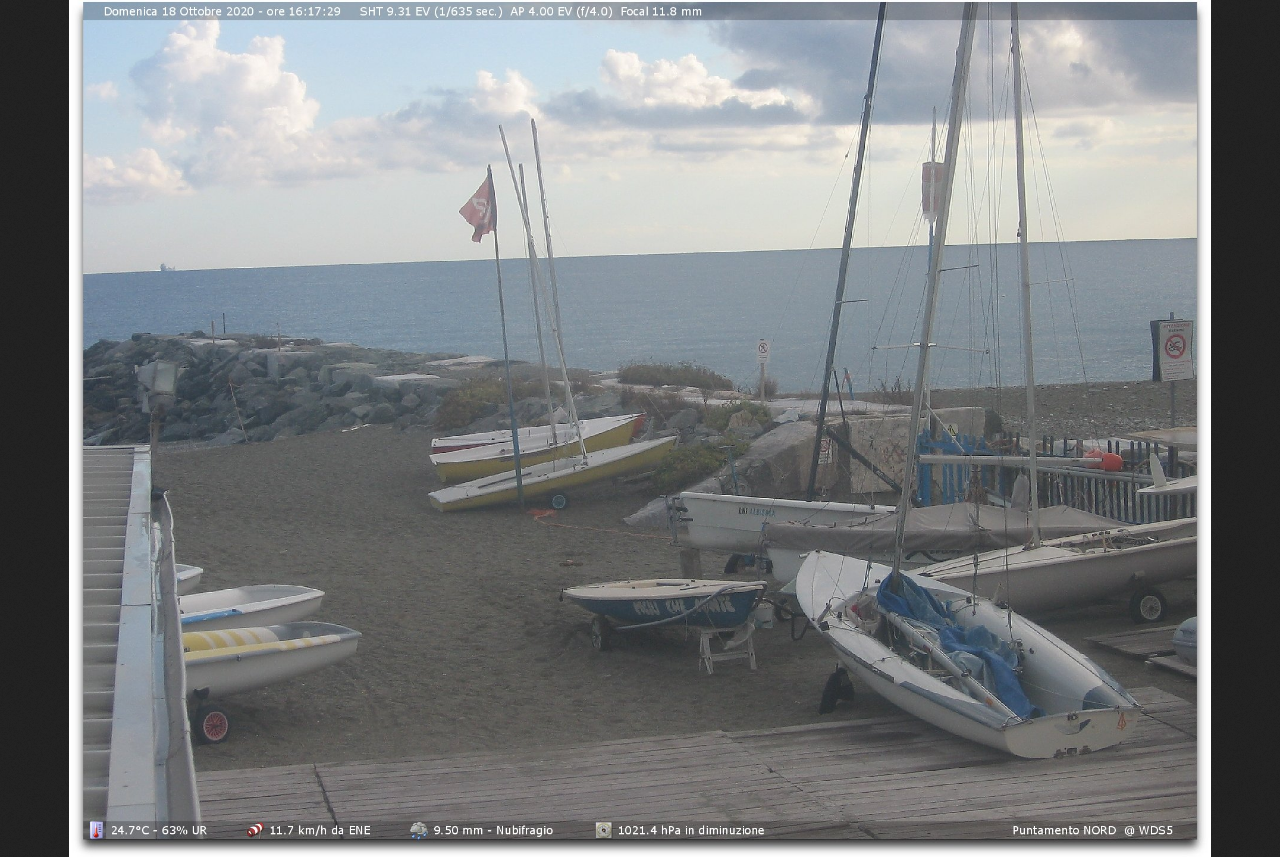maybe: (458, 171, 496, 241)
